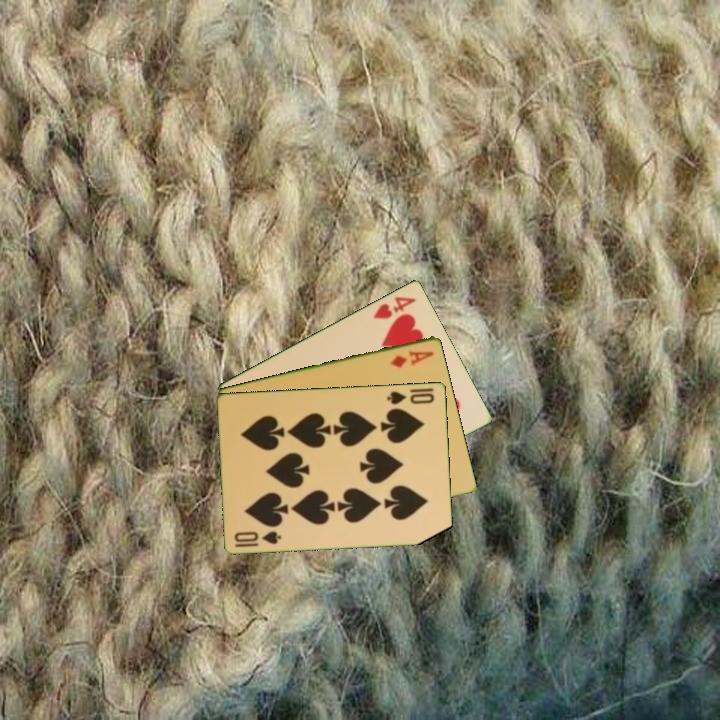10s: (231, 527, 284, 550), (384, 387, 437, 407)
4h: (370, 292, 419, 322)
Ad: (387, 346, 437, 370)
